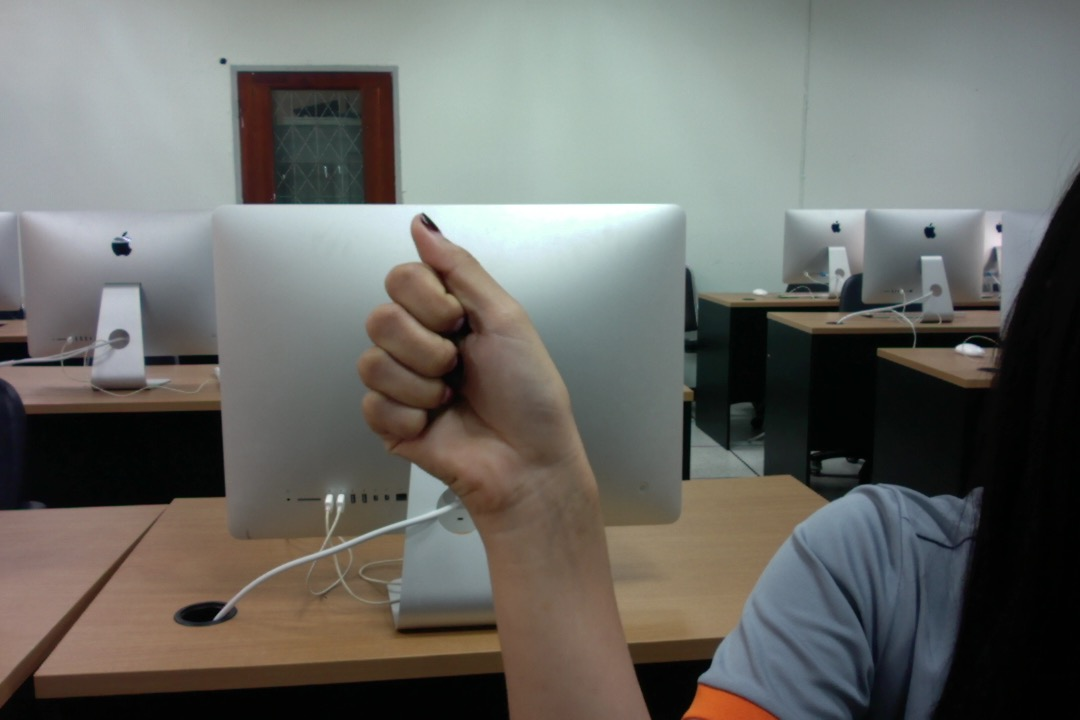or: (346, 206, 596, 511)
